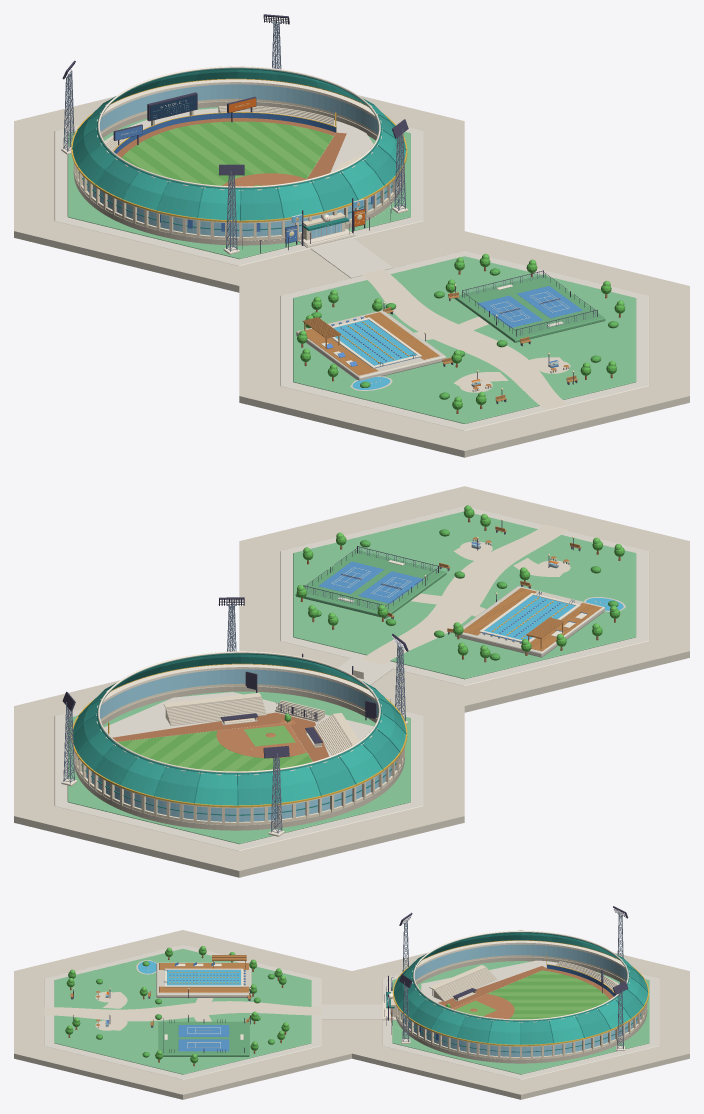
The model's file is park.glb.
The picture shows the model from 3 angles, top to bottom: view 1: azimuth 30°, elevation 25°; view 2: azimuth 150°, elevation 25°; view 3: azimuth 270°, elevation 25°; orthographic projection. The views are drawn at different scales.
Size of the model in its own units: 10.25 by 2.15 by 17.75.
